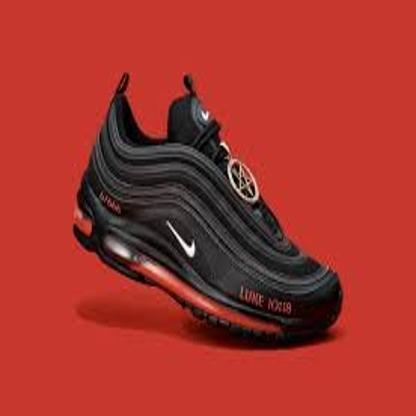not trash: (64, 64, 352, 346)
